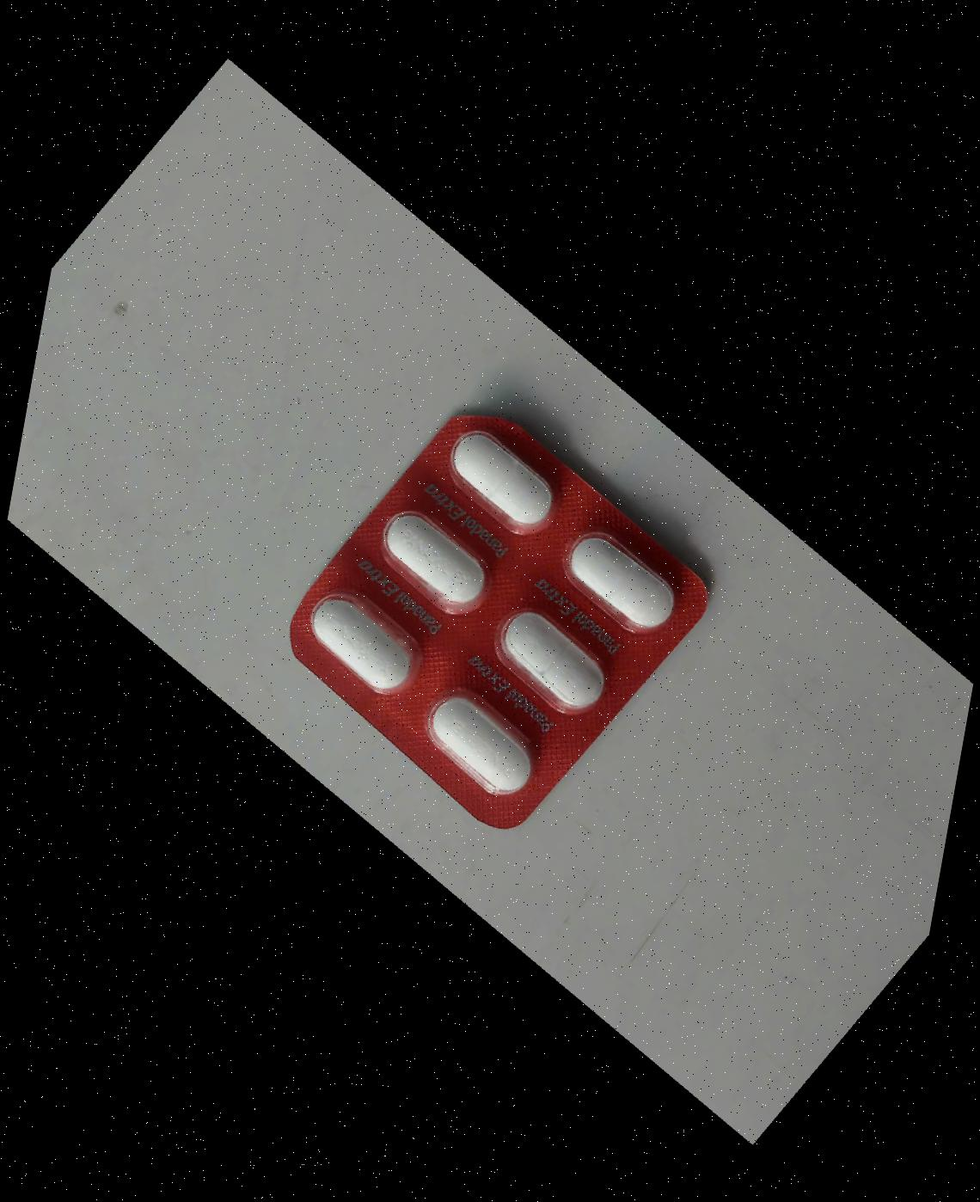Full: (481, 591, 623, 728), (413, 674, 555, 811), (291, 576, 434, 712), (549, 513, 691, 649), (433, 409, 575, 545), (364, 491, 506, 627)
